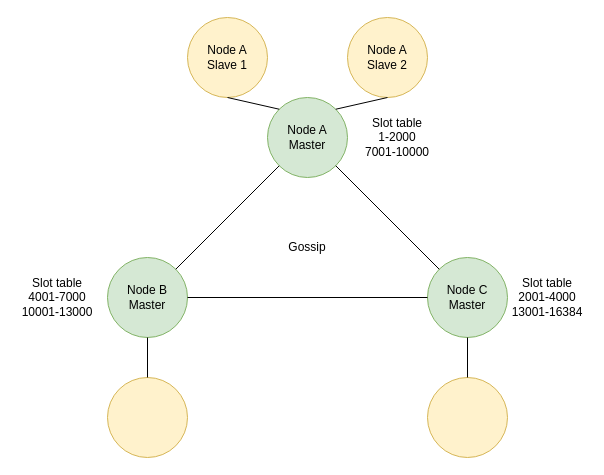
Image size: 604x475. Some labels were removed from this diagram. The box of each missing label's shape, as (x1, y1, x2, y2) in pixels:
Node B Slave 1: (106, 376, 188, 458)
Node C Slave 1: (426, 376, 508, 458)
